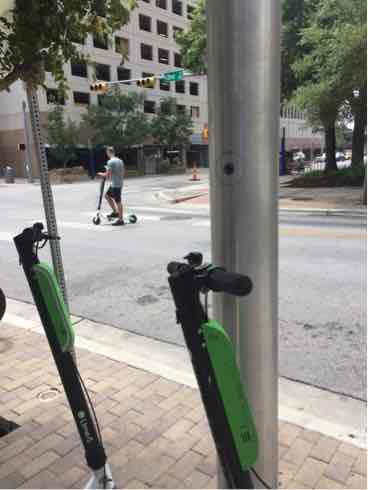scooter: (35, 248, 325, 490), (6, 222, 209, 480)
